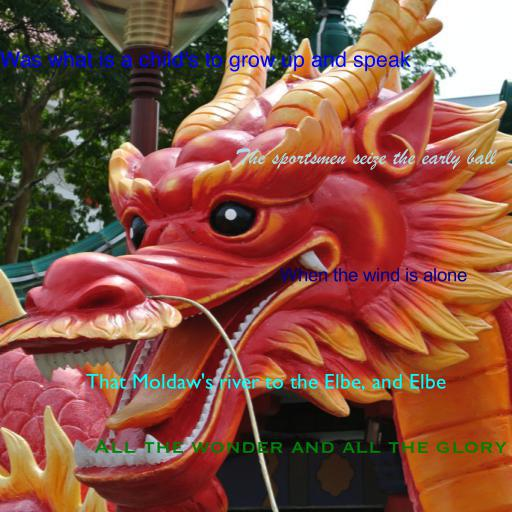Arial: (279, 267, 467, 282)
Brush Script MT: (235, 148, 495, 170)
Copperplate: (93, 440, 507, 454)
Gill Sans: (86, 373, 446, 392)
SF Pro: (0, 51, 411, 72)
